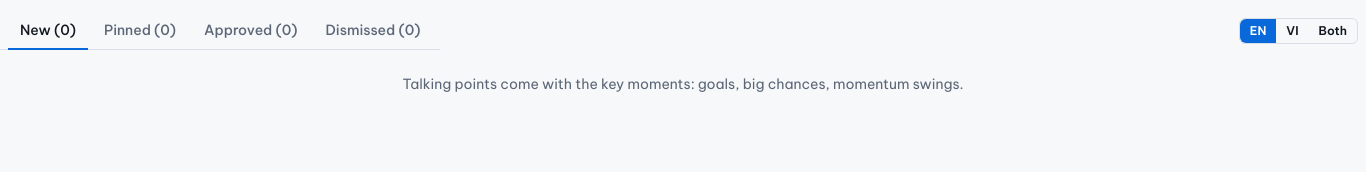
Scenario: panel states › an empty talking point queue says when suggestions come
Expected: the text "come with the key moments" is shown, [402, 75, 964, 93]
What coordinates should you click on to do the following:
click the tab with test id "tp-tab-dismissed"
I would click on:
 (373, 31)
Its box is [314, 12, 432, 50].
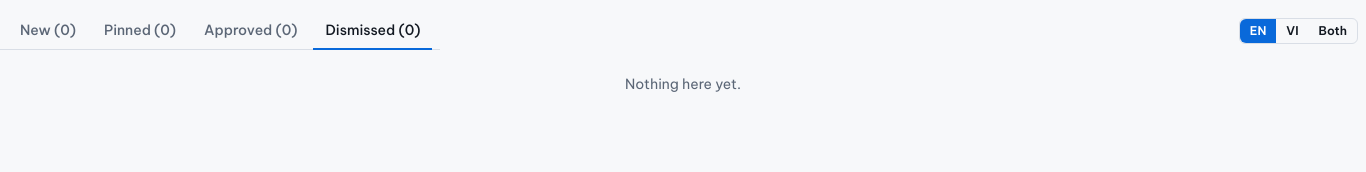
Expected: the text "Nothing here yet." is shown, [625, 75, 741, 93]
